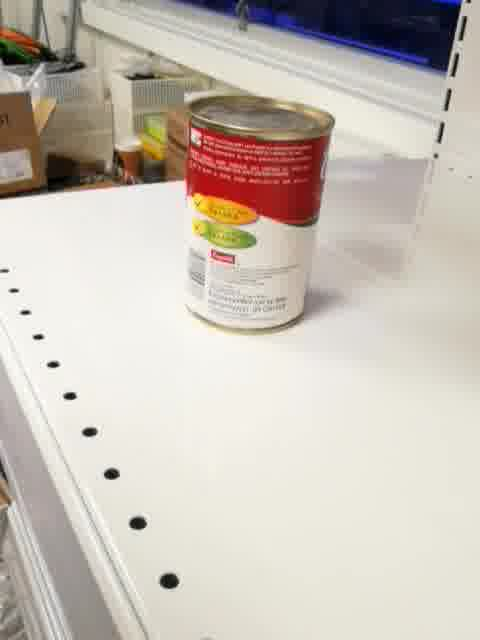tomatosoup: (181, 95, 335, 336)
